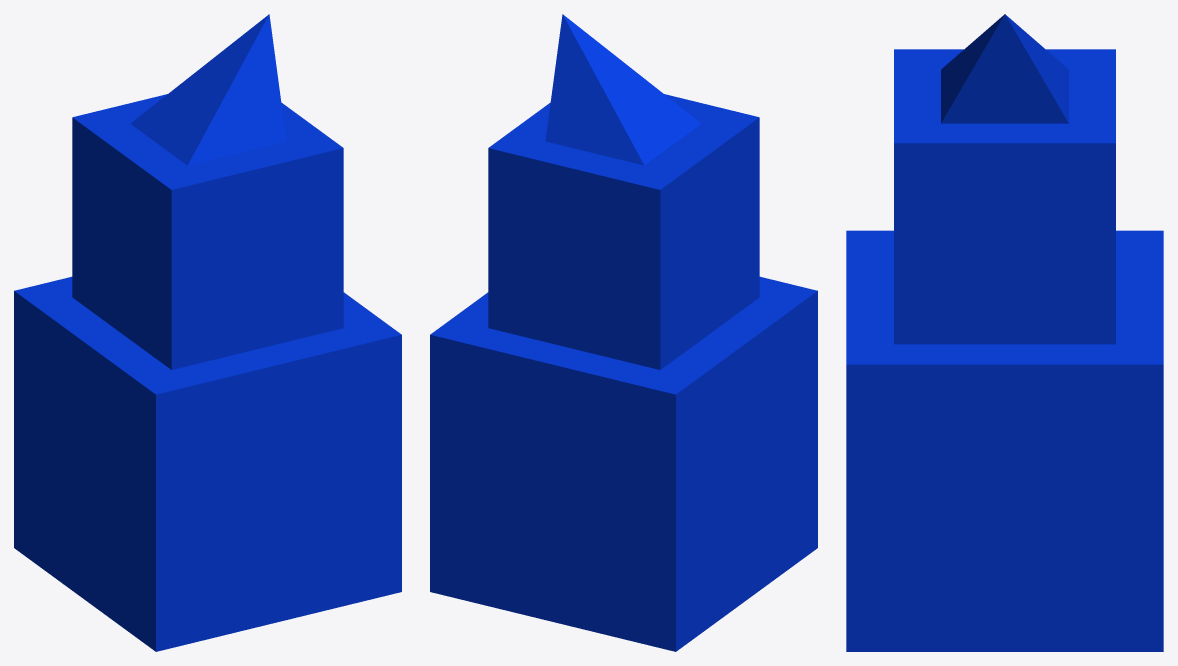
Rendered from Luminorine.fbx.
3 views of the same model, side by side, from view 1: azimuth 30°, elevation 25°; view 2: azimuth 150°, elevation 25°; view 3: azimuth 270°, elevation 25° (orthographic). The views are drawn at different scales.
Visible parts, largest first — view 1: MAT_Luminorine; view 2: MAT_Luminorine; view 3: MAT_Luminorine.
Boxes of the visible parts, x1,y1,x2,y2 form: MAT_Luminorine: [14, 14, 401, 651]; MAT_Luminorine: [430, 14, 817, 651]; MAT_Luminorine: [846, 14, 1163, 651].
Size of the model in its own units: 80 by 168 by 80.
